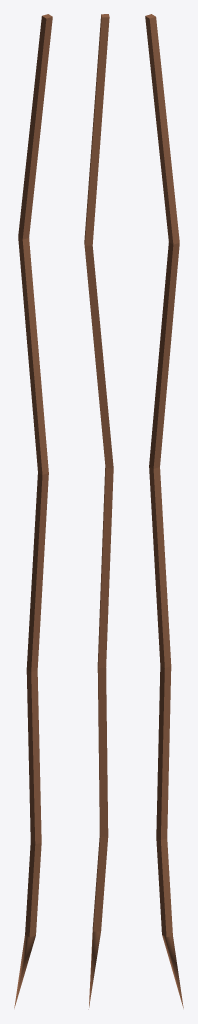
Rendered from Liana7.FBX.
3 views of the same model, side by side, from view 1: azimuth 90°, elevation 25°; view 2: azimuth 150°, elevation 25°; view 3: azimuth 270°, elevation 25° (orthographic).
Parts seen in each view (by area): view 1: Liana7; view 2: Liana7; view 3: Liana7.
Part boxes in pixels (x1,y1,x2,y2): Liana7: (14, 14, 52, 1008); Liana7: (84, 14, 113, 1009); Liana7: (145, 14, 183, 1008).
Bounding box in the file's own units: 0.2696 × 12.3 × 0.4345.
